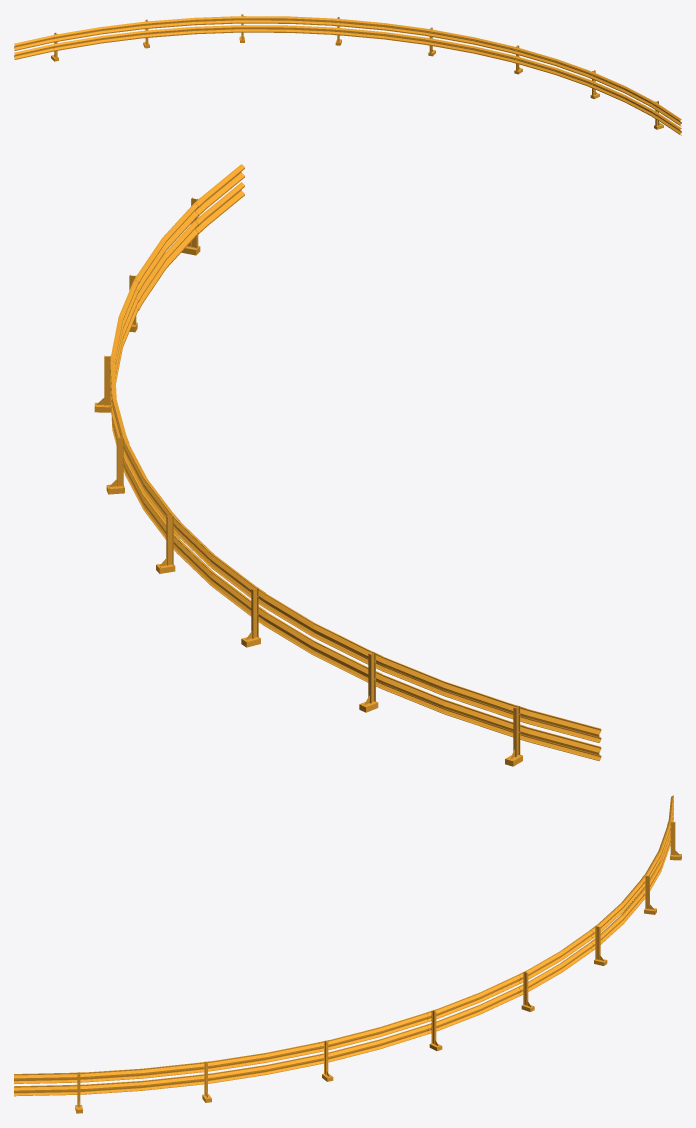
The model's file is SM_Fence_Road_WBeam_Double_Color_20m_Corner_Inner.fbx.
The picture shows the model from 3 angles, top to bottom: view 1: azimuth 30°, elevation 25°; view 2: azimuth 150°, elevation 25°; view 3: azimuth 270°, elevation 25°; orthographic projection. The views are drawn at different scales.
Visible parts, largest first — view 1: SM_Fence_Road_WBeam_Double_Color_20m_Corner_Inner; view 2: SM_Fence_Road_WBeam_Double_Color_20m_Corner_Inner; view 3: SM_Fence_Road_WBeam_Double_Color_20m_Corner_Inner.
Boxes of the visible parts, <box> form: SM_Fence_Road_WBeam_Double_Color_20m_Corner_Inner: <box>14,14,681,135</box>; SM_Fence_Road_WBeam_Double_Color_20m_Corner_Inner: <box>94,164,601,766</box>; SM_Fence_Road_WBeam_Double_Color_20m_Corner_Inner: <box>14,795,681,1113</box>.
Bounding box in the file's own units: 19.87 × 1.2 × 19.87.
